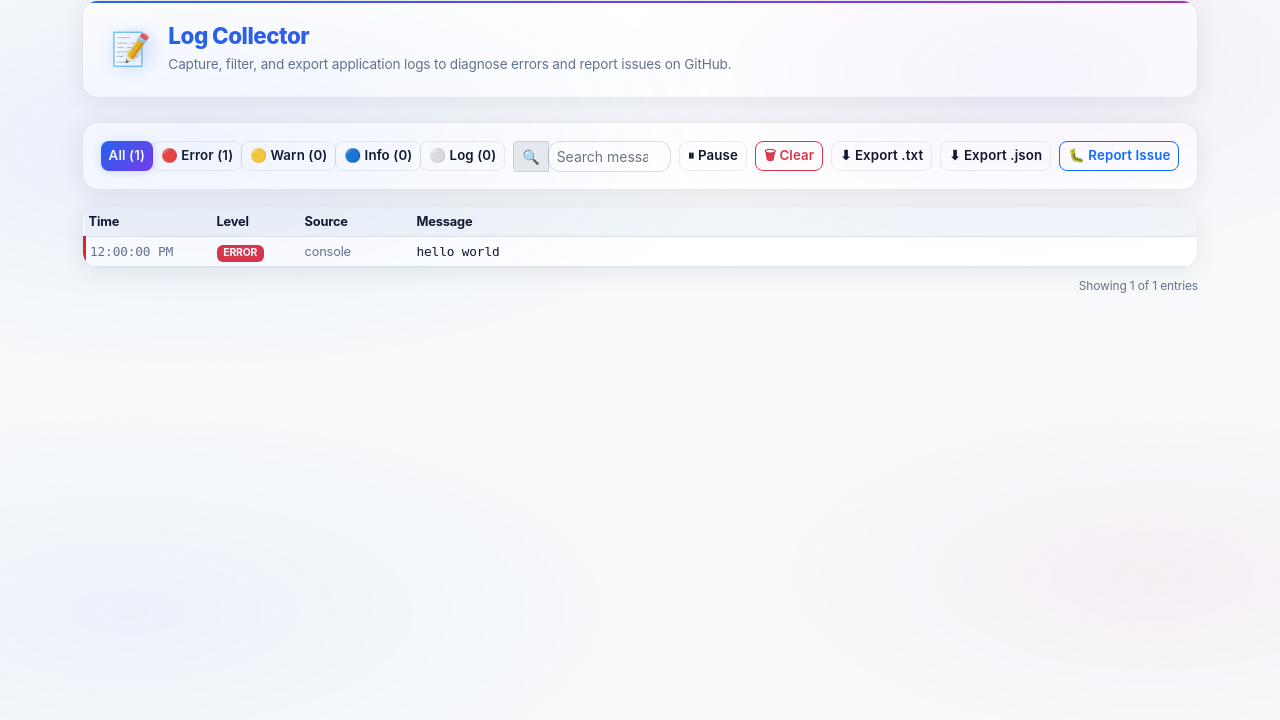
LogCollector Component › shows no-match message when search finds nothing
In the search field with placeholder "Search messages…": [609, 156] box [548,141,671,172], type "zzznomatch"
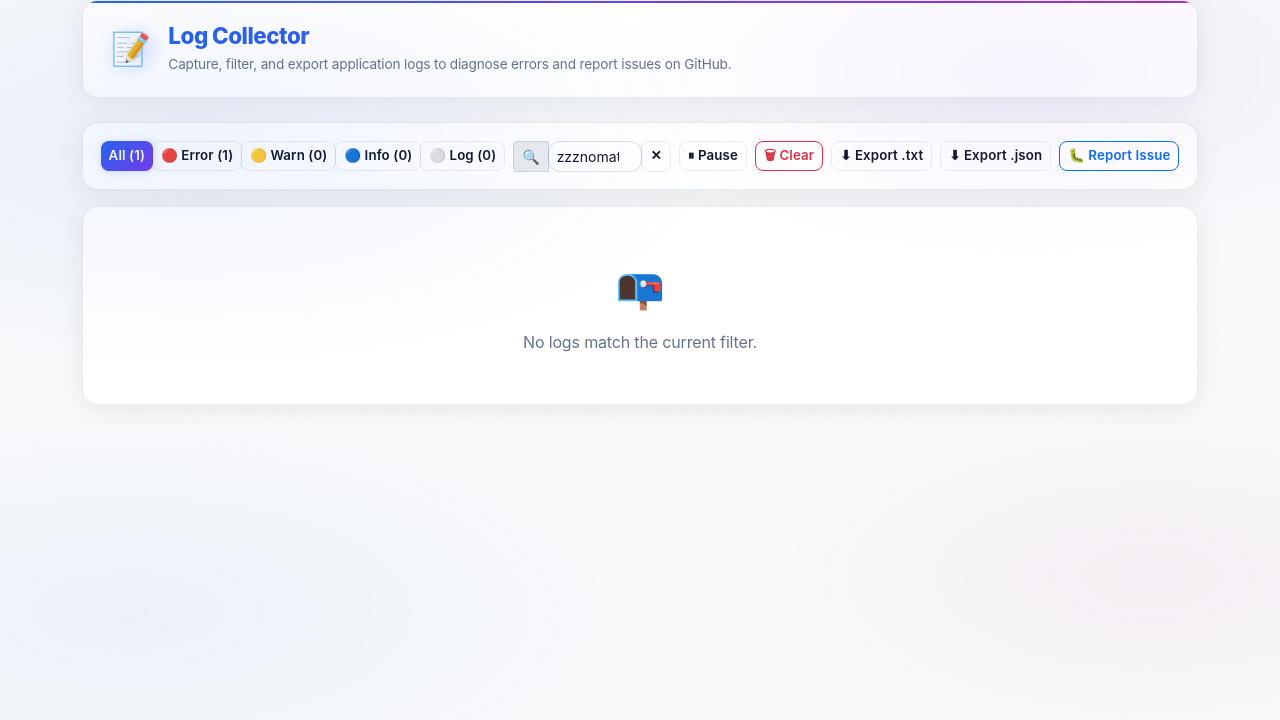
Check: the text "No logs match the current filter." is shown, box [523,332,757,352]
